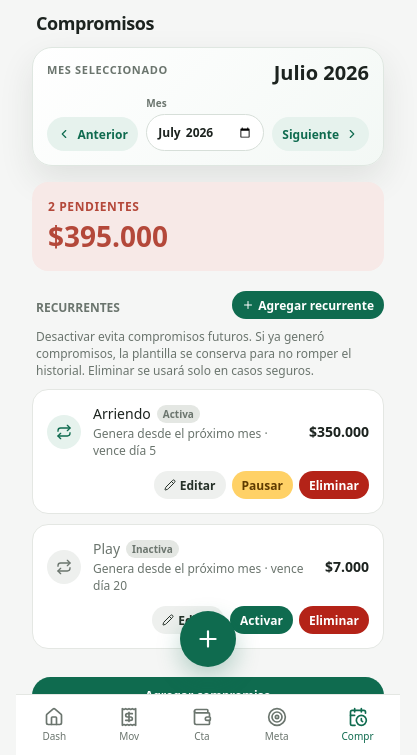
Test: CommitmentsPage › shows a Spanish error when deleting a recurrent template that generated commitments is blocked
Click the button with aria-label "Eliminar plantilla Arriendo" at point(334, 485), box [299,471,369,499]
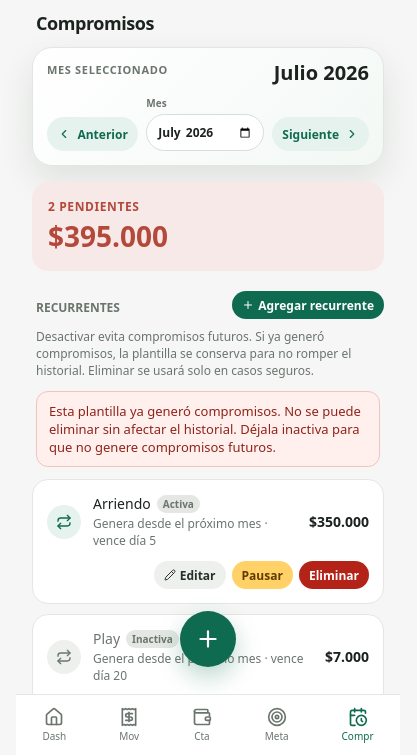
Check: the button with aria-label "Pausar Arriendo" is shown, box [232,561,293,589]
Check: the message shows "Esta plantilla ya generó compromisos. No se puede eliminar sin afectar el historial. Déjala inactiva para que no genere compromisos futuros.", box [49,402,361,456]
